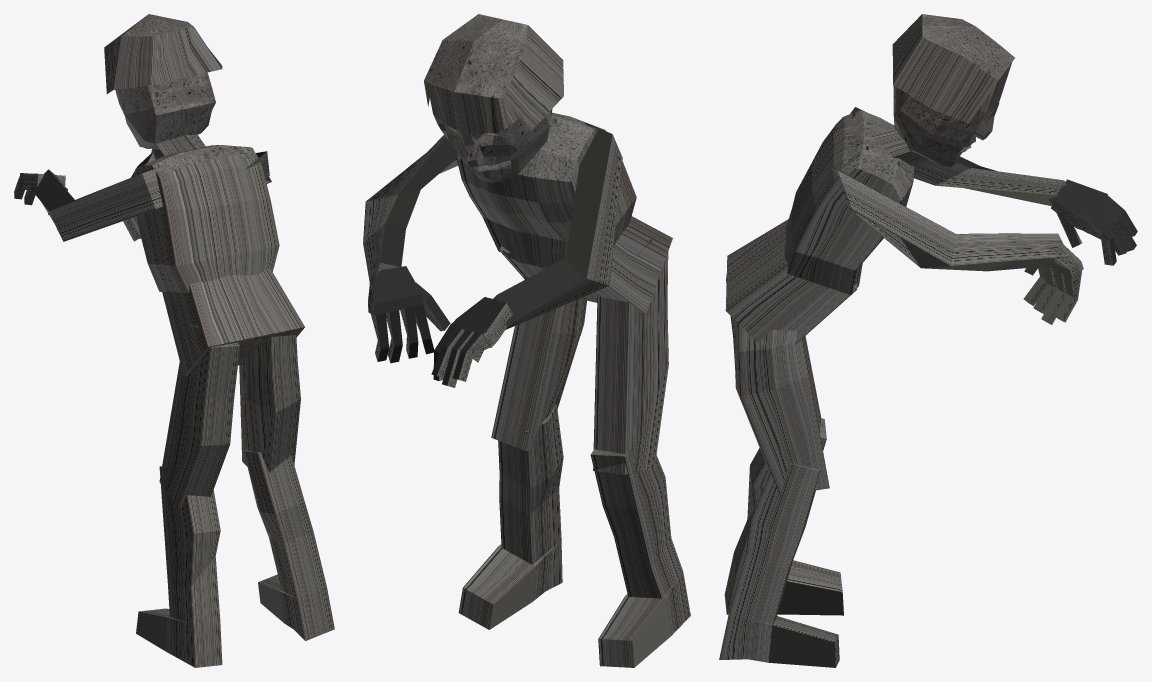
Rendered from SM_Amassou00.fbx.
3 renders of one model, left to right at view 1: azimuth 30°, elevation 25°; view 2: azimuth 150°, elevation 25°; view 3: azimuth 270°, elevation 25°, orthographic. The views are drawn at different scales.
Parts seen in each view (by area): view 1: SM_Amassou00; view 2: SM_Amassou00; view 3: SM_Amassou00.
Part boxes in pixels (left/top/right/bottom): SM_Amassou00: left=14, top=14, right=334, bottom=667; SM_Amassou00: left=363, top=14, right=690, bottom=667; SM_Amassou00: left=719, top=14, right=1137, bottom=667.
Bounding box in the file's own units: 81.34 × 215 × 133.
